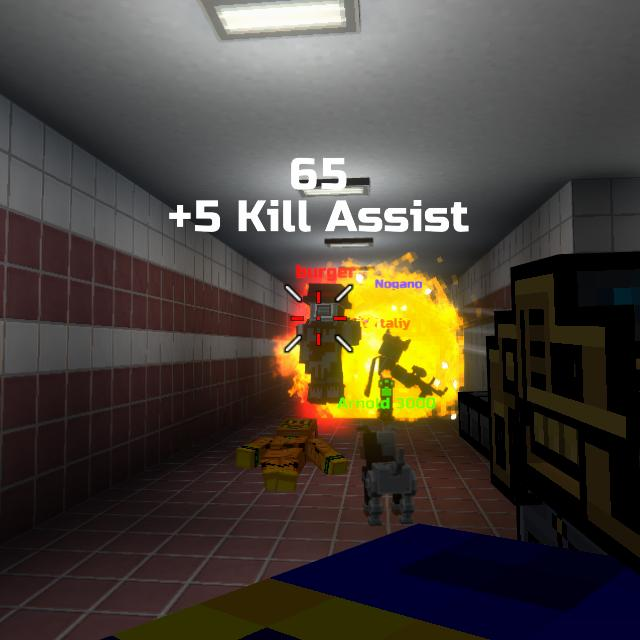Enemy: (299, 284, 349, 408)
